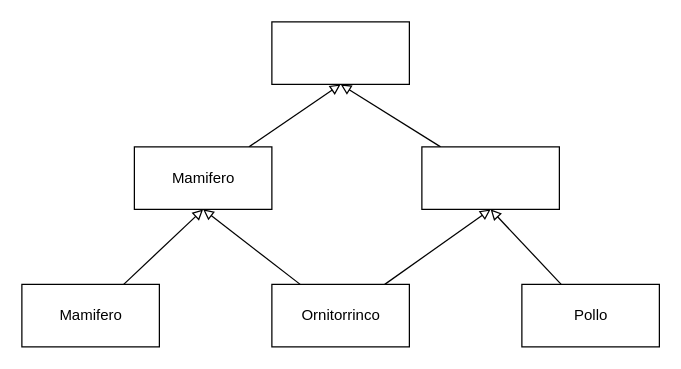
This 681x369 diagram has some shape labels left out. Here are the shapes that lost their labels. From the top down, the centre of each, then its label:
At point 340,52: "Animal".
At point 490,177: "Oviparo".
